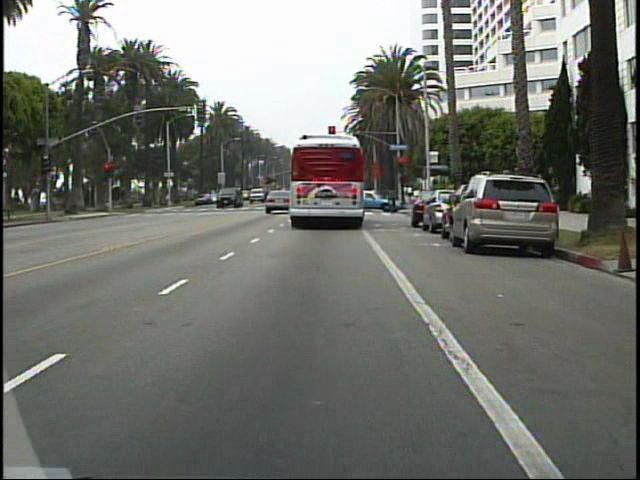person: (382, 185, 401, 217)
